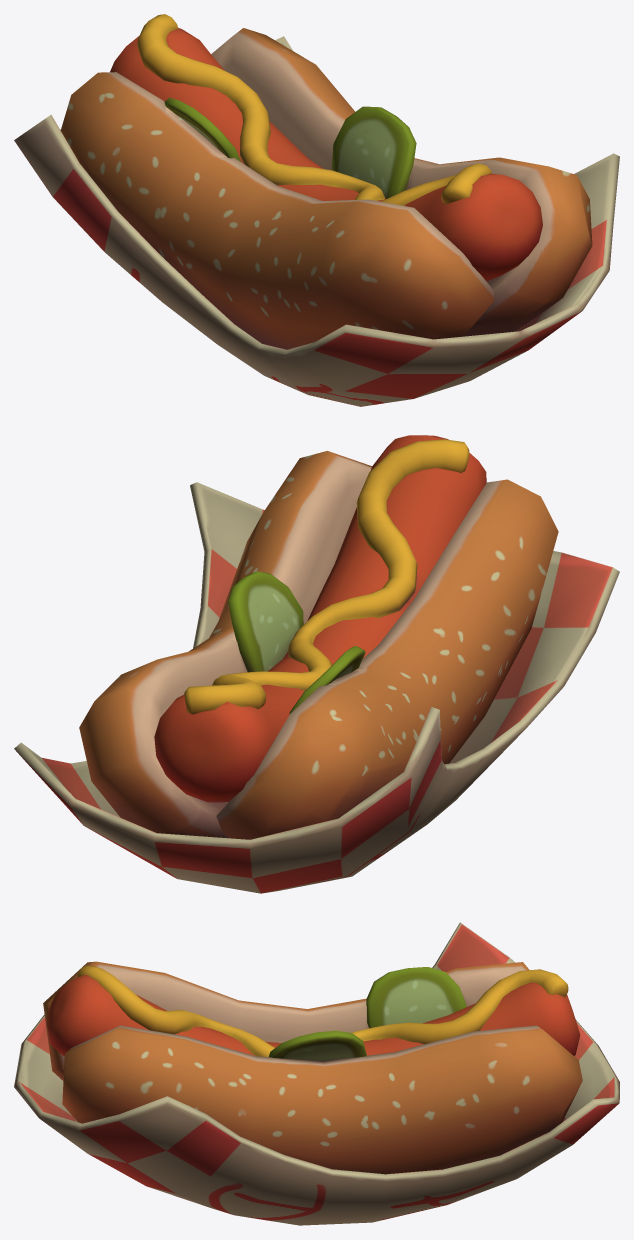
File: hot_dog.glb
3 renders of one model, top to bottom at view 1: azimuth 30°, elevation 25°; view 2: azimuth 150°, elevation 25°; view 3: azimuth 270°, elevation 25°, orthographic. The views are drawn at different scales.
Parts seen in each view (by area): view 1: Cube.002; view 2: Cube.002; view 3: Cube.002.
Boxes of the visible parts, x1,y1,x2,y2 form: Cube.002: [14, 14, 619, 406]; Cube.002: [14, 435, 619, 893]; Cube.002: [14, 922, 619, 1225].
Bounding box in the file's own units: 7.96 × 5.41 × 11.92.
Materials: 1 (1 with a texture image).
